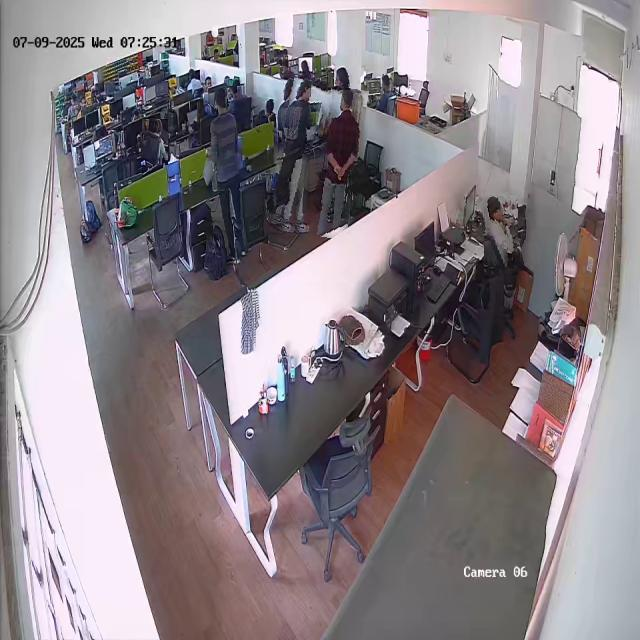person: (205, 86, 249, 265), (270, 76, 318, 236), (314, 86, 364, 239), (480, 194, 522, 276), (142, 119, 168, 165), (254, 98, 276, 132)
